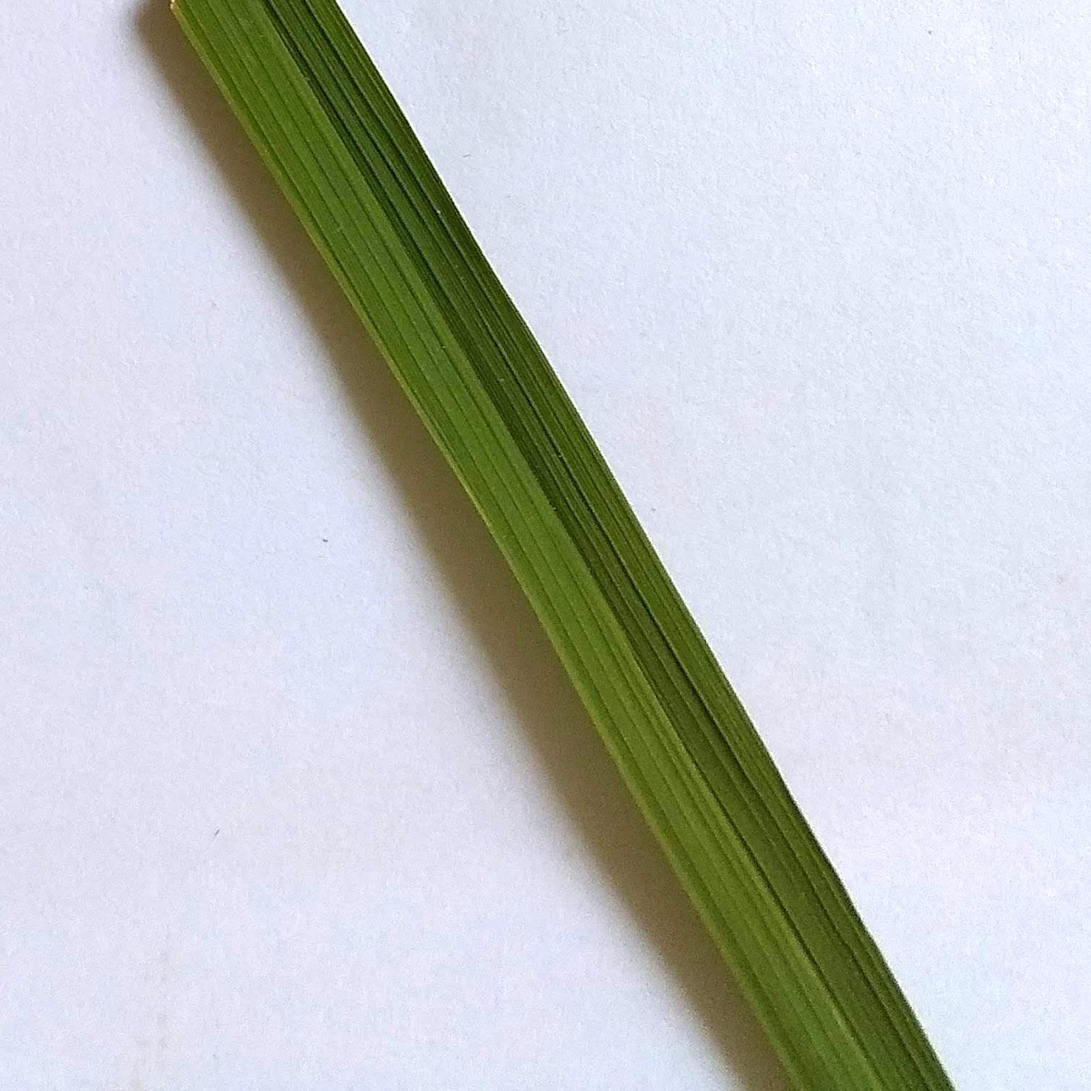Healthy: (174, 2, 952, 1090)
